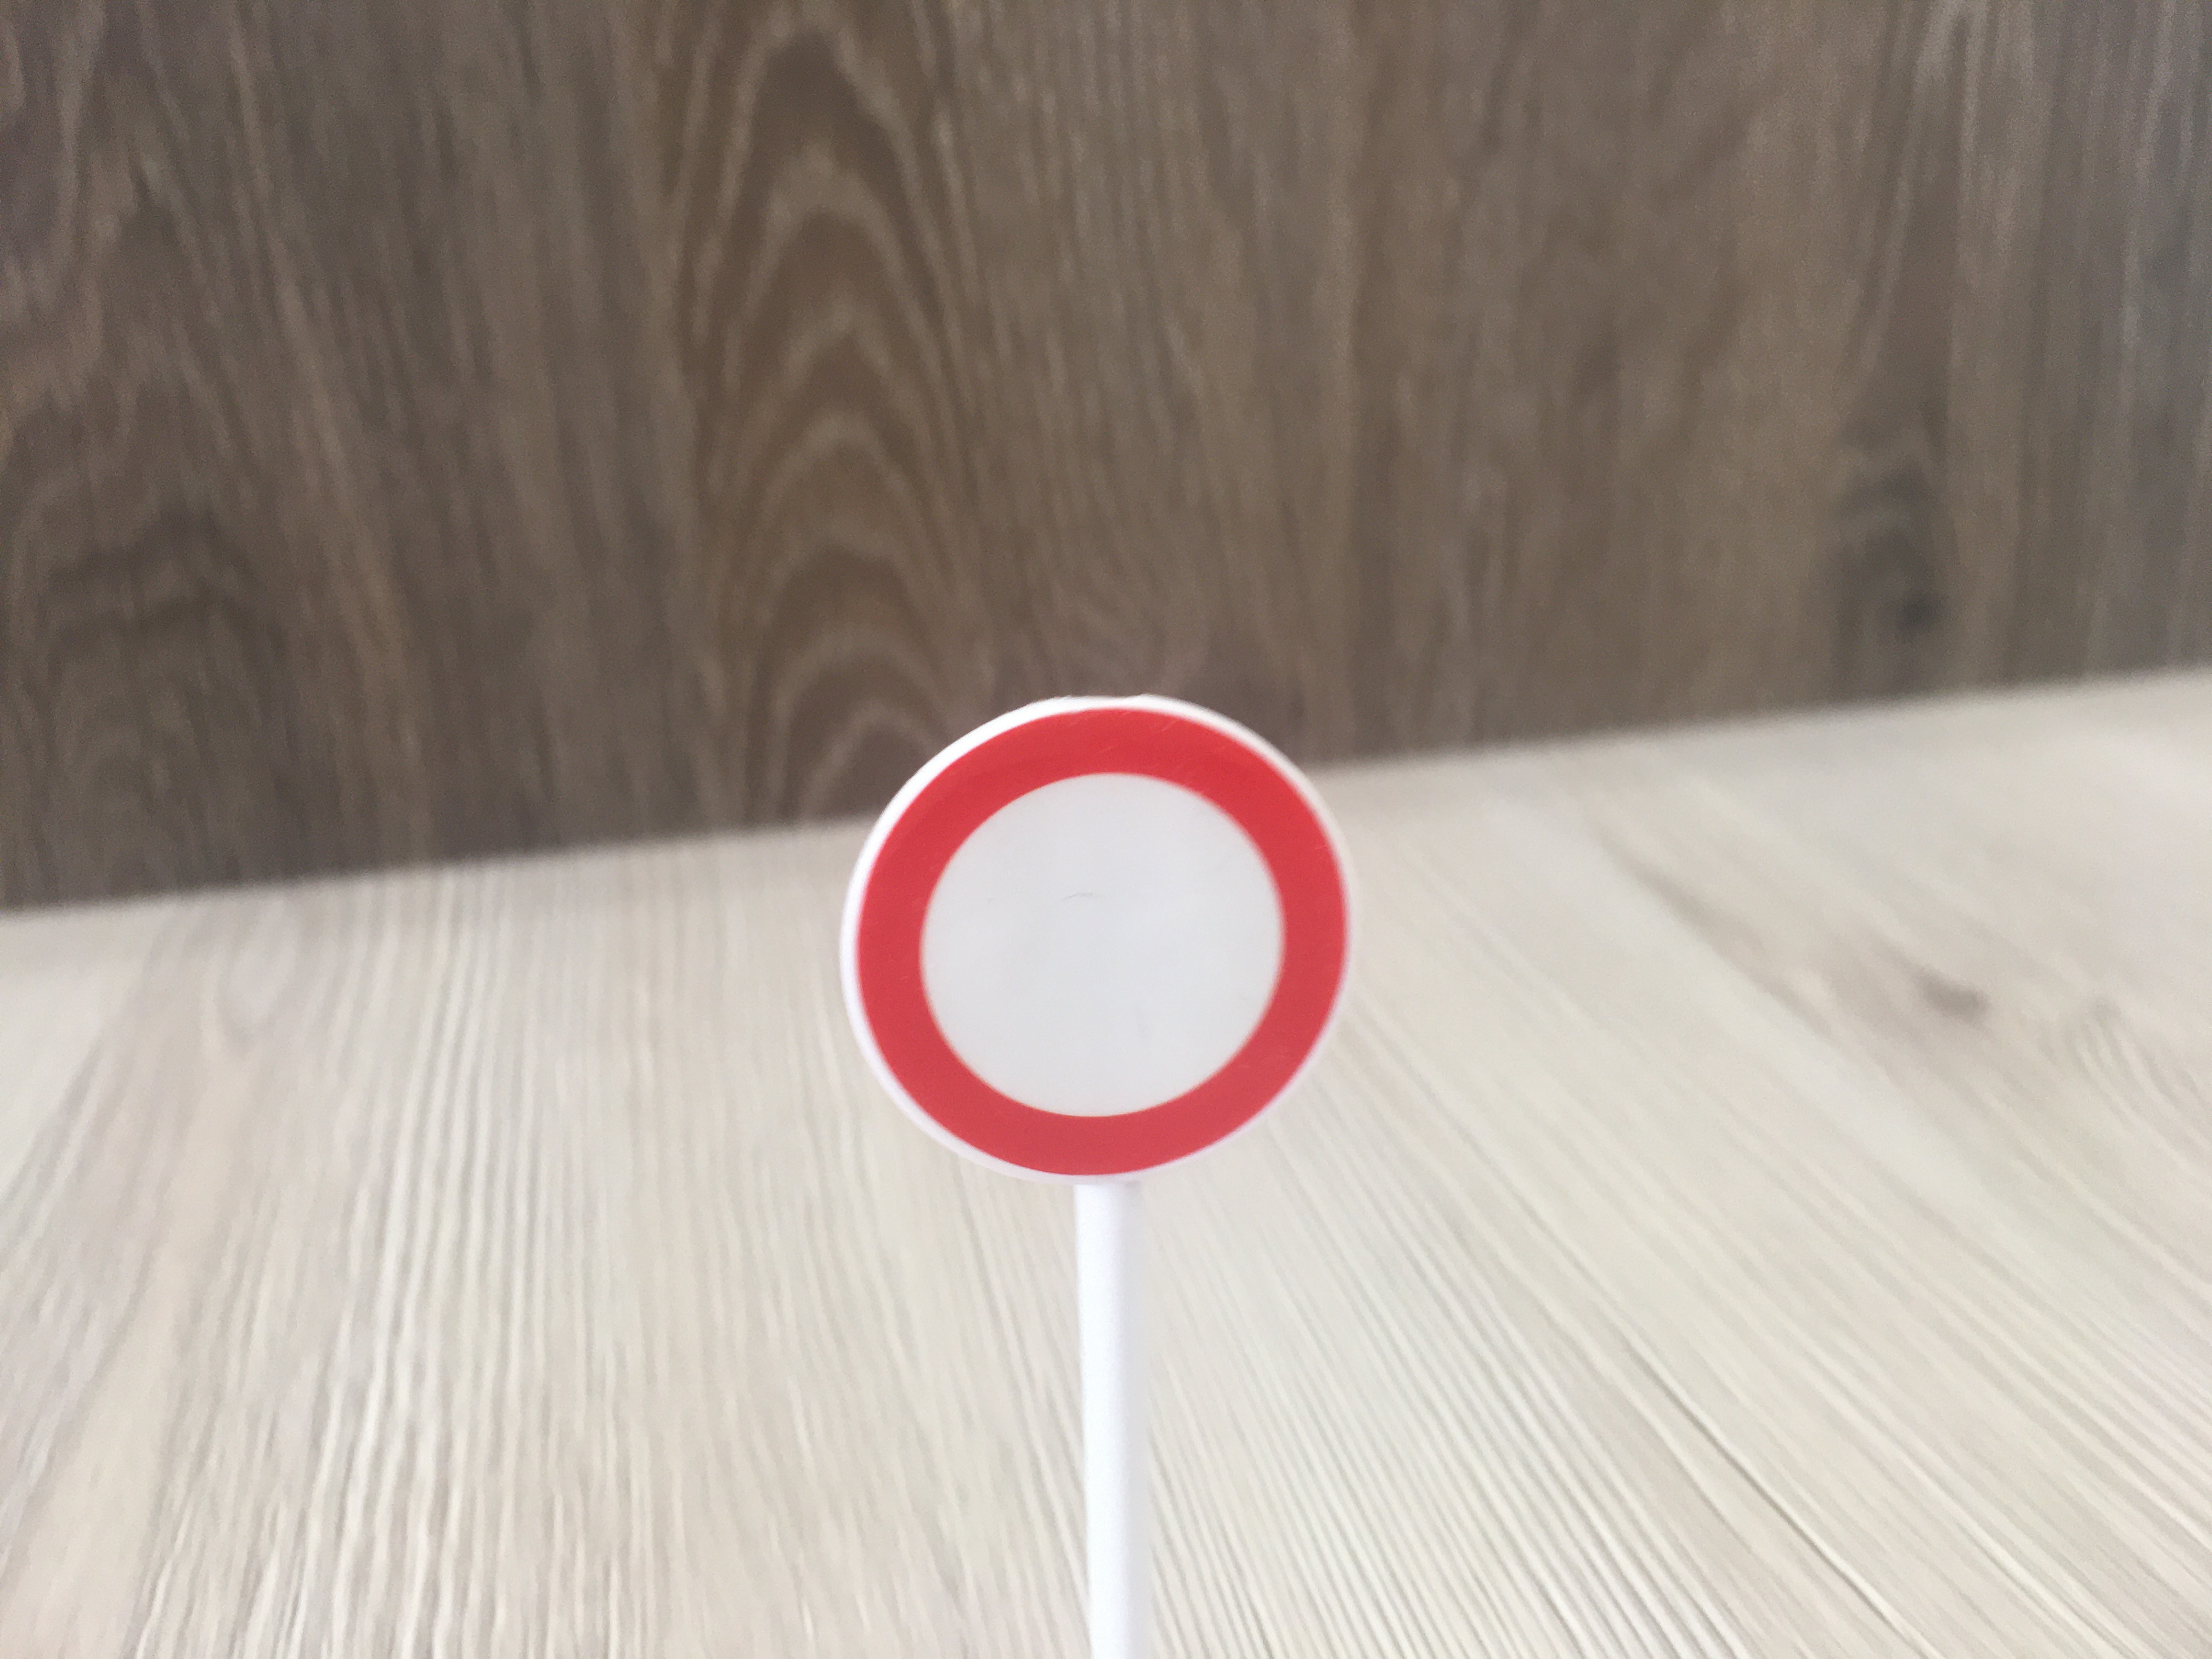noDrive: (840, 692, 1346, 1211)
